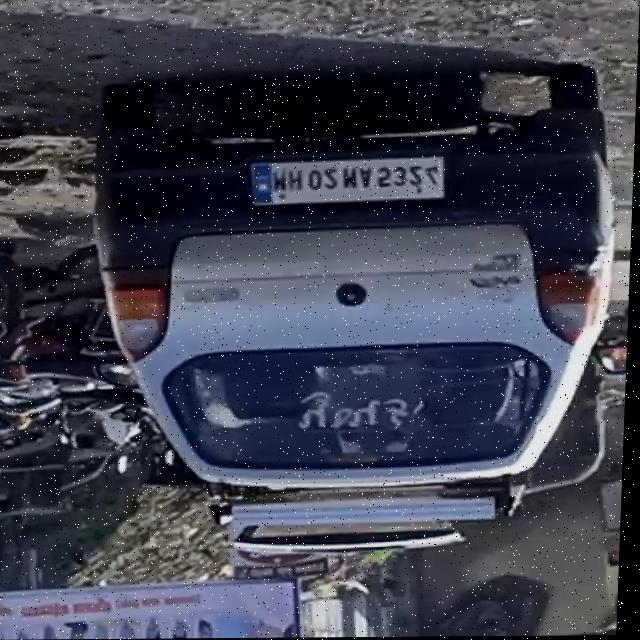plate: (249, 150, 458, 212)
